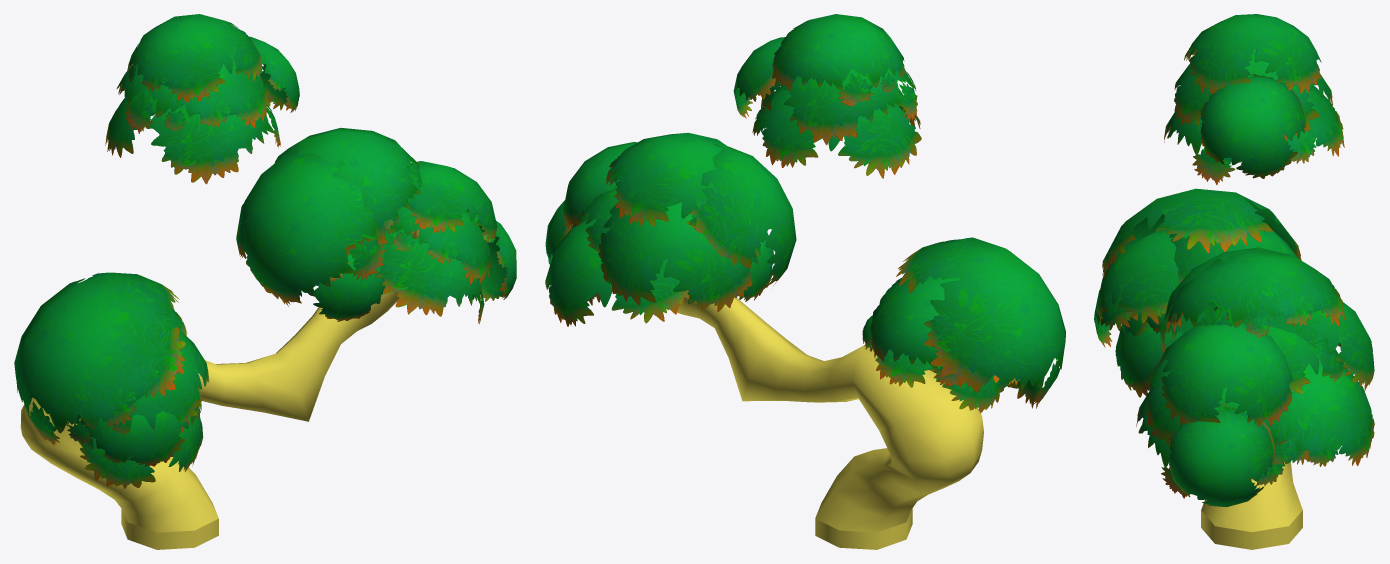
The model's file is 3.2_Arbol.fbx.
The picture shows the model from 3 angles, left to right: view 1: azimuth 30°, elevation 25°; view 2: azimuth 150°, elevation 25°; view 3: azimuth 270°, elevation 25°; orthographic projection. The views are drawn at different scales.
Visible parts, largest first — view 1: 2_Arbol_Hojas_Antoni.002; view 2: 2_Arbol_Hojas_Antoni.002; view 3: 2_Arbol_Hojas_Antoni.002.
Part boxes in pixels (x1,y1,x2,y2): 2_Arbol_Hojas_Antoni.002: [14, 14, 516, 549]; 2_Arbol_Hojas_Antoni.002: [545, 14, 1065, 549]; 2_Arbol_Hojas_Antoni.002: [1094, 14, 1374, 549].
Bounding box in the file's own units: 768 × 753 × 370.
